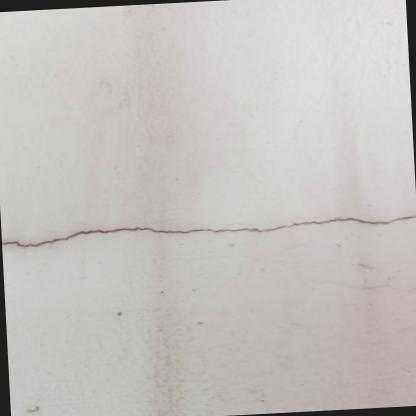crack: (1, 214, 416, 246)
